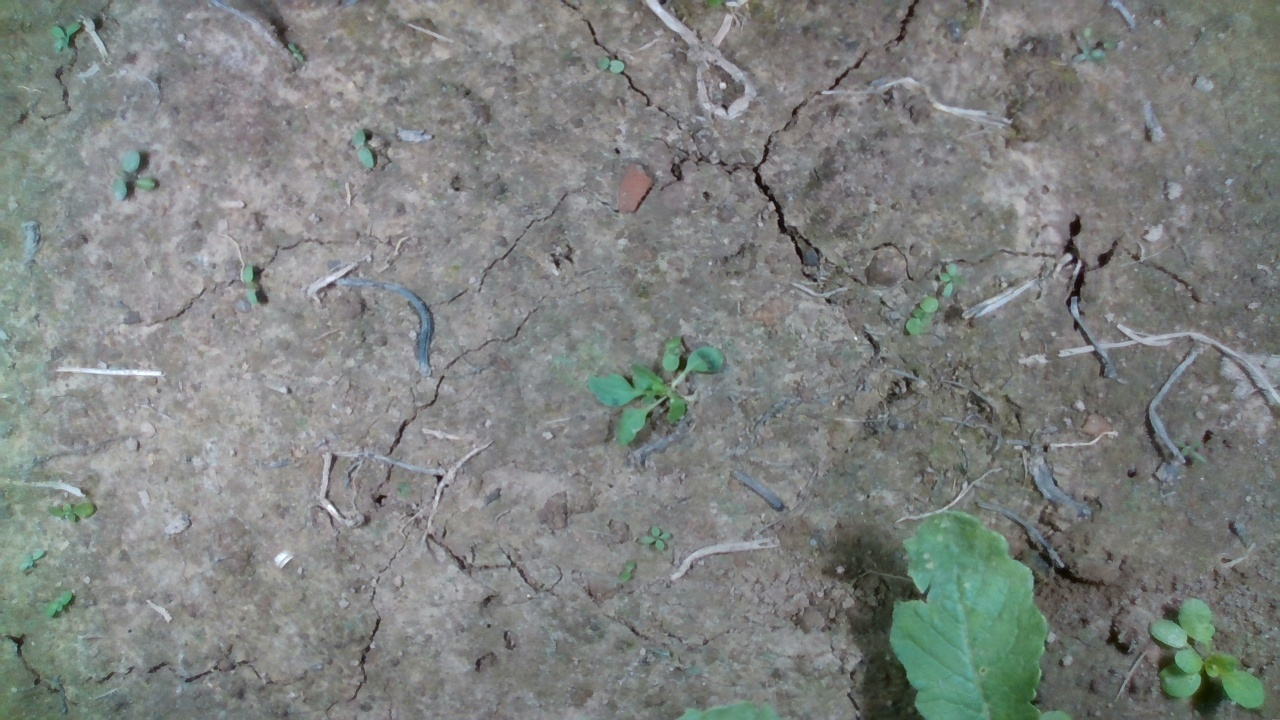weed: (110, 148, 158, 202), (904, 295, 939, 336), (45, 500, 96, 523), (351, 126, 375, 171), (42, 589, 74, 622), (637, 525, 671, 554), (16, 544, 45, 574), (240, 265, 260, 307), (596, 56, 626, 74), (287, 41, 304, 64), (620, 561, 637, 583)
